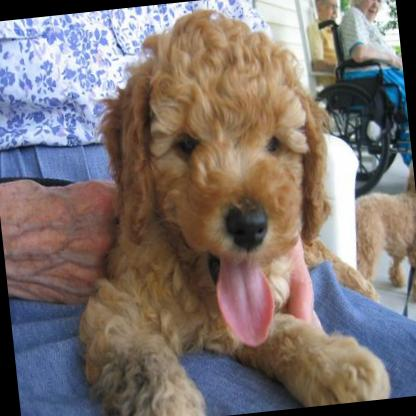toy_poodle: (42, 0, 390, 416)
